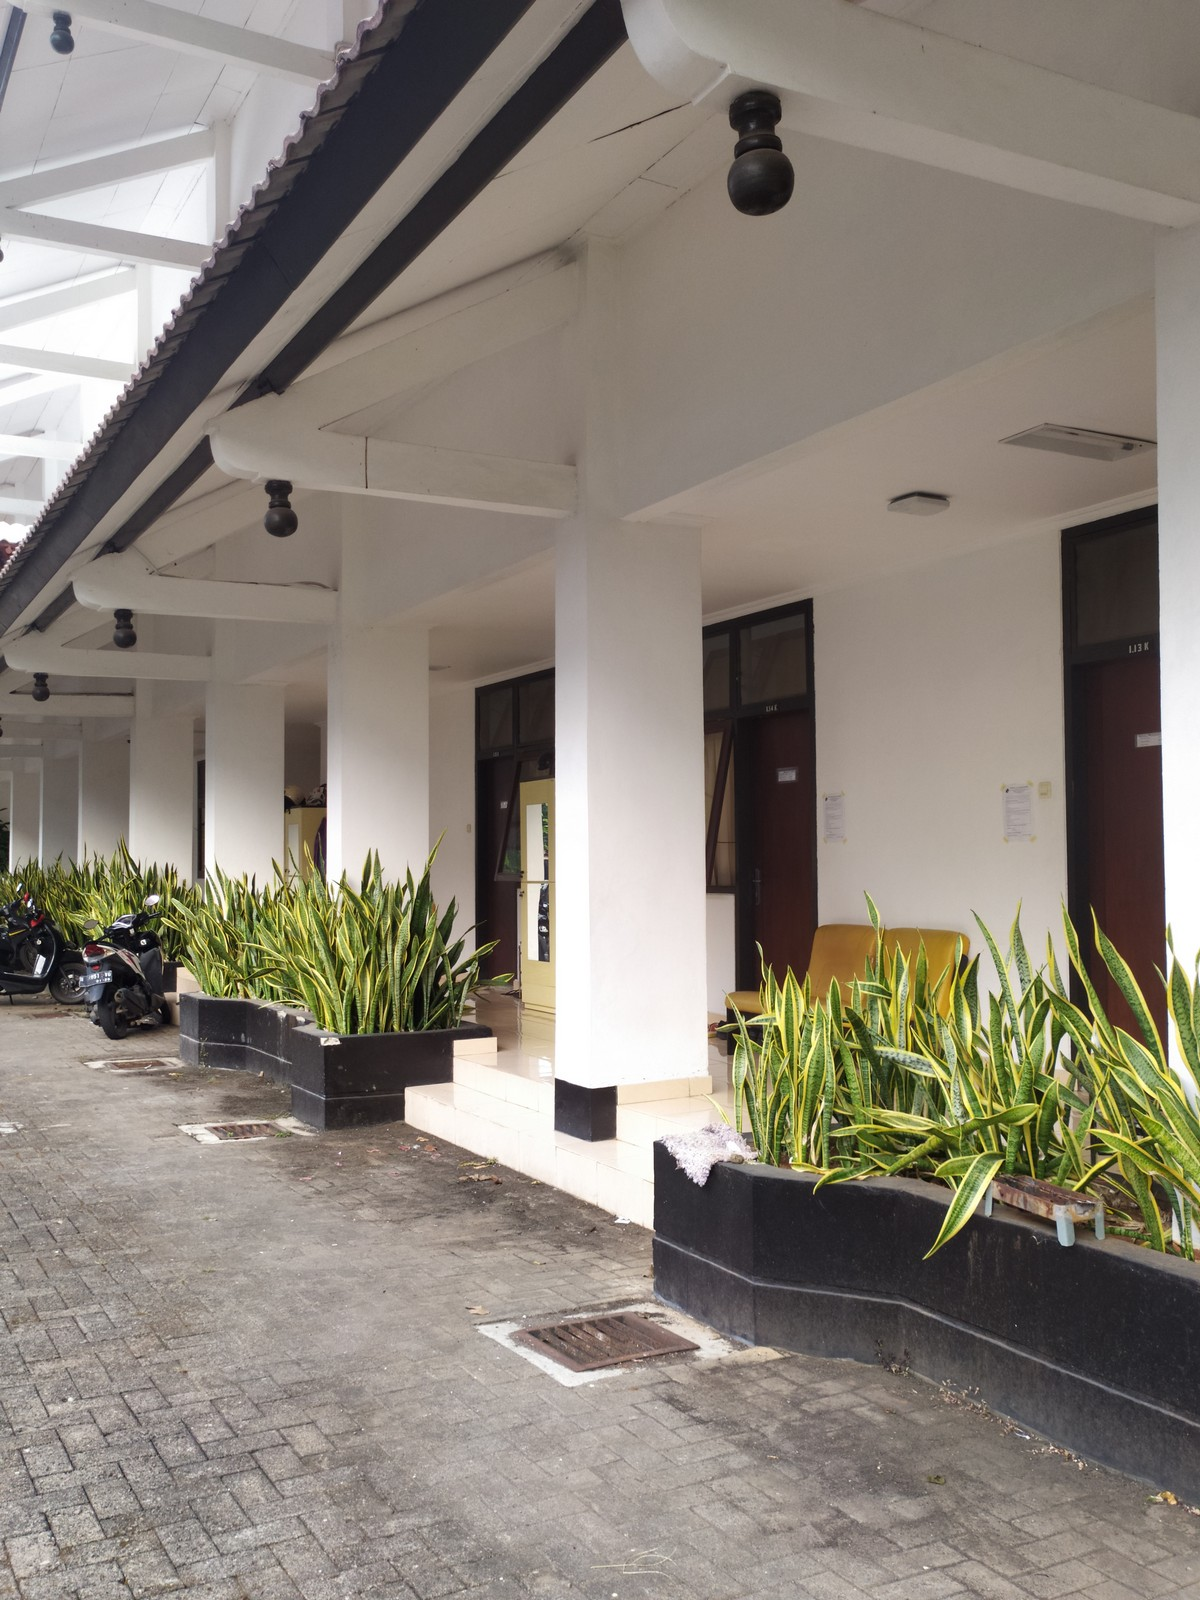concrete beam: (306, 436, 592, 529), (147, 572, 354, 639)
concrete column: (541, 449, 722, 1128), (779, 20, 1197, 239), (315, 591, 446, 1003), (195, 641, 292, 932), (120, 693, 203, 917)
